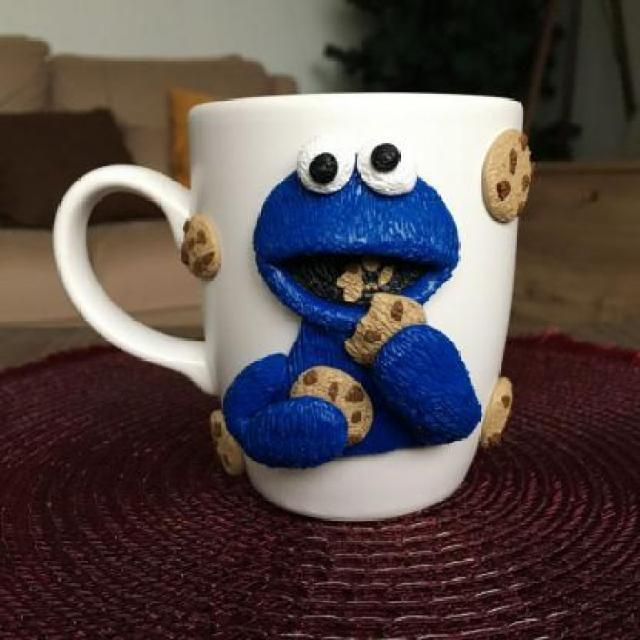taza: (51, 90, 530, 526)
